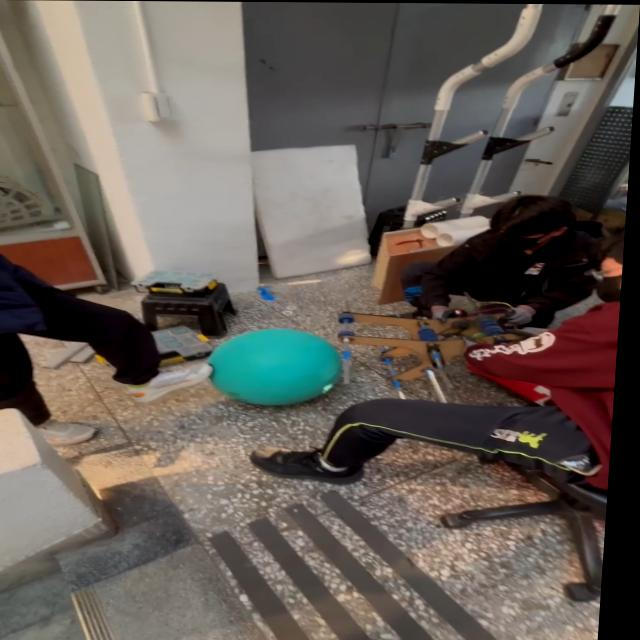ALGAE: (201, 326, 346, 407)
